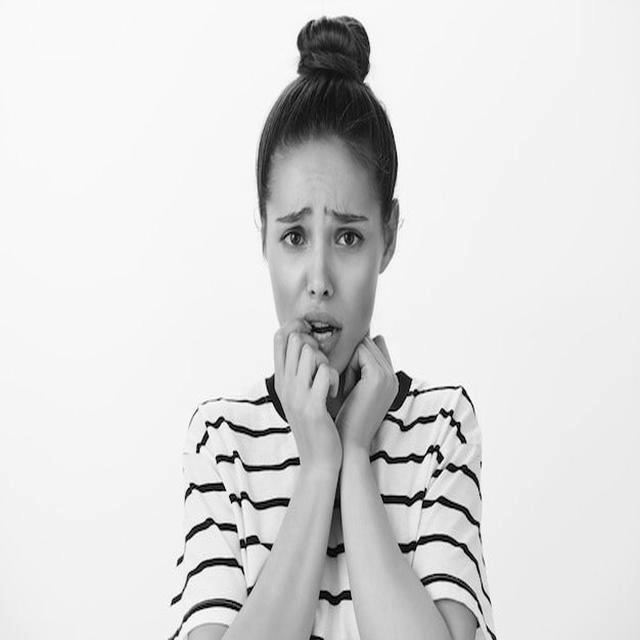Fear: (265, 141, 384, 379)
